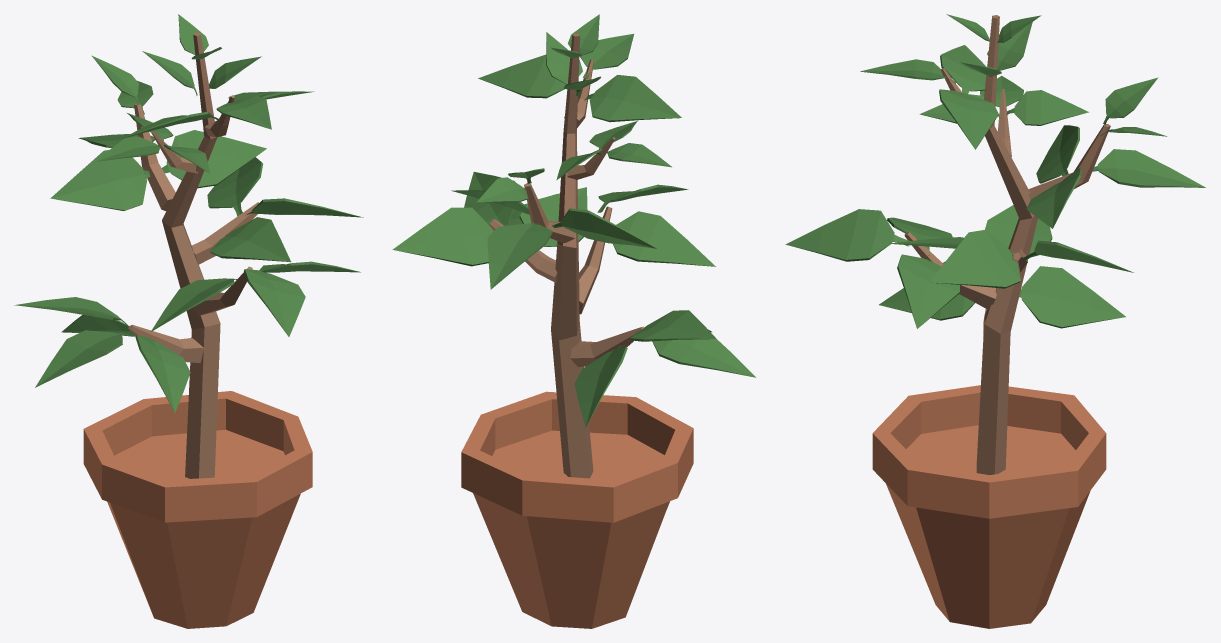
File: plant.fbx
3 views of the same model, side by side, from view 1: azimuth 30°, elevation 25°; view 2: azimuth 150°, elevation 25°; view 3: azimuth 270°, elevation 25° (orthographic). The views are drawn at different scales.
Parts seen in each view (by area): view 1: Cube, Cone.001, Cylinder; view 2: Cube, Cone.001, Cylinder; view 3: Cube, Cone.001, Cylinder.
Boxes of the visible parts, x1,y1,x2,y2 form: Cube: [83, 391, 312, 628]; Cone.001: [14, 14, 363, 412]; Cylinder: [128, 32, 258, 478]; Cube: [461, 391, 693, 628]; Cone.001: [392, 14, 755, 427]; Cylinder: [489, 33, 643, 478]; Cube: [872, 385, 1106, 628]; Cone.001: [785, 14, 1205, 328]; Cylinder: [904, 15, 1110, 475].
Size of the model in its own units: 243 by 436 by 282.
